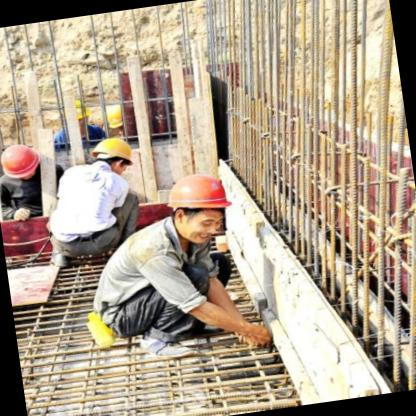helmet: (154, 166, 233, 246), (89, 132, 140, 182), (0, 138, 44, 185), (96, 100, 134, 138), (63, 94, 93, 131)
